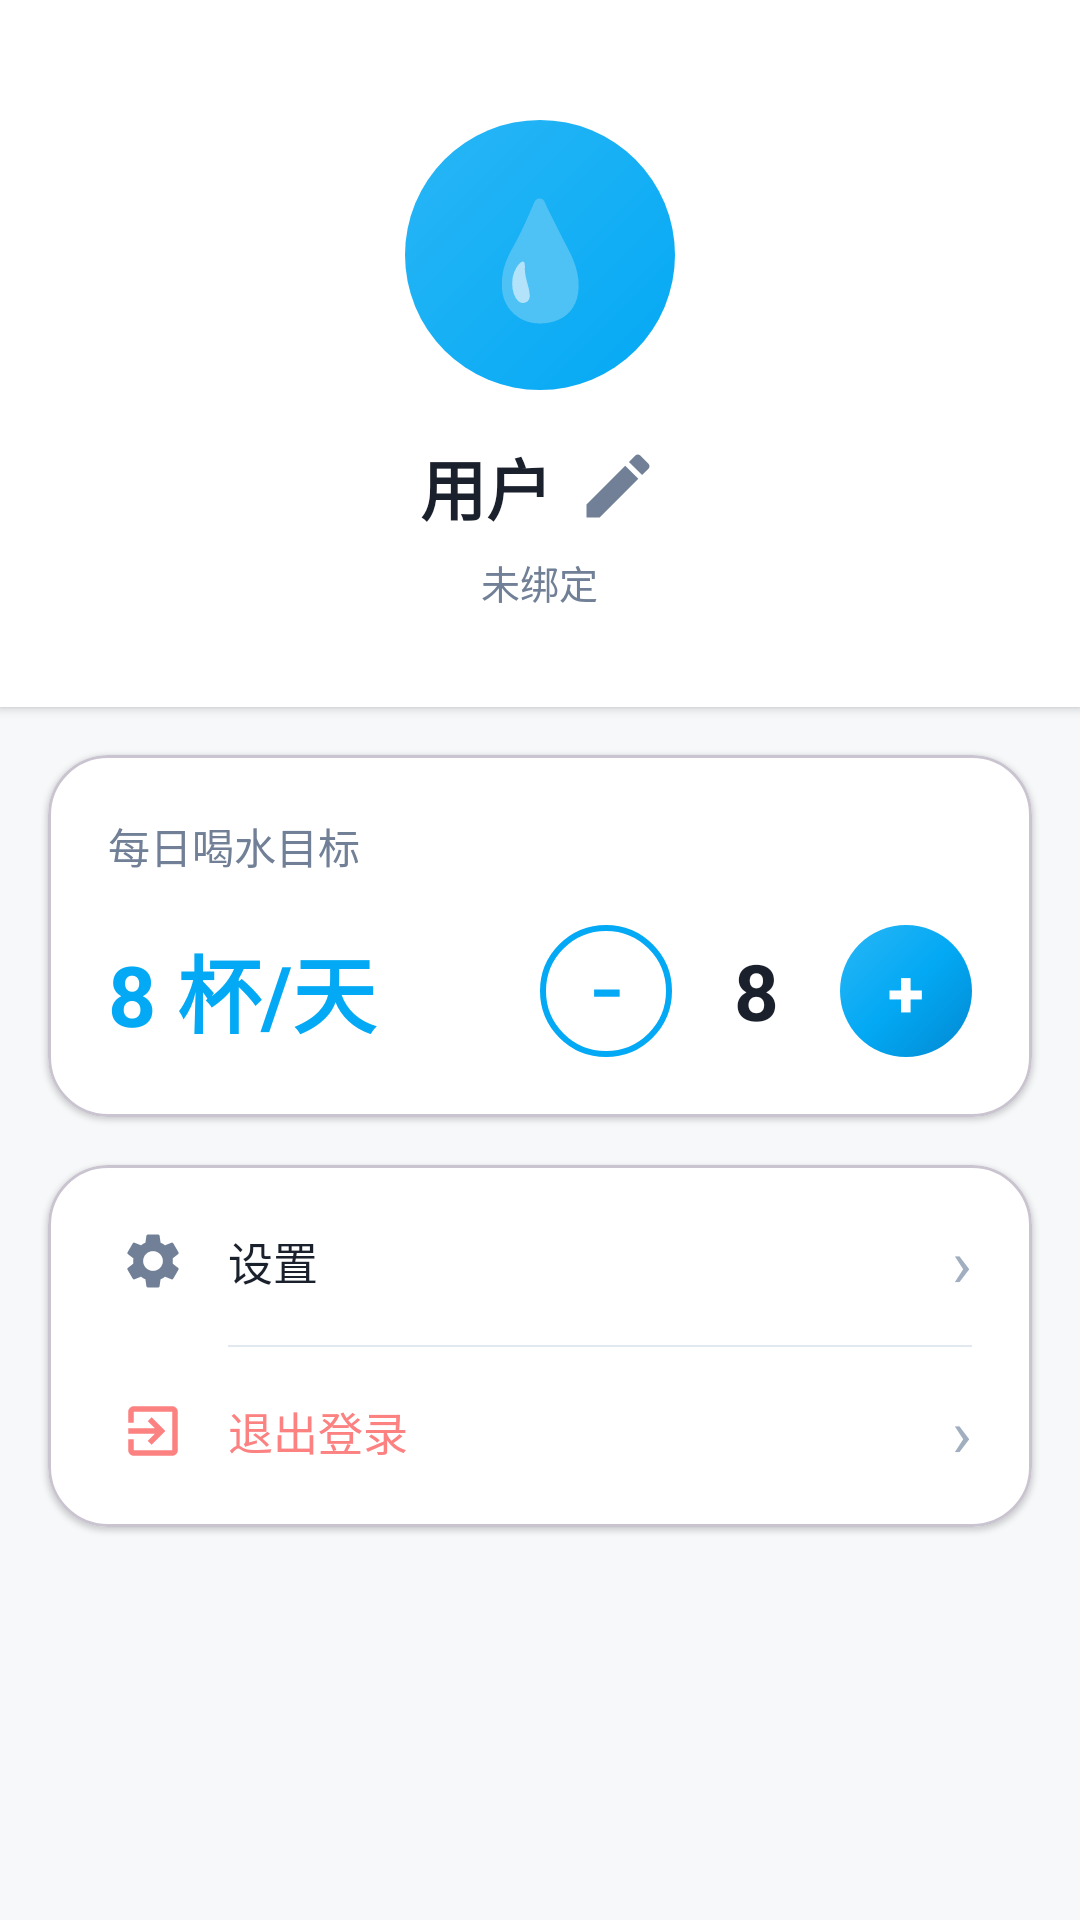

Where icons sit on this 1080 × 1920 app screen, as (x1, y1, x2, y2):
修改昵称: (586, 454, 650, 518)
